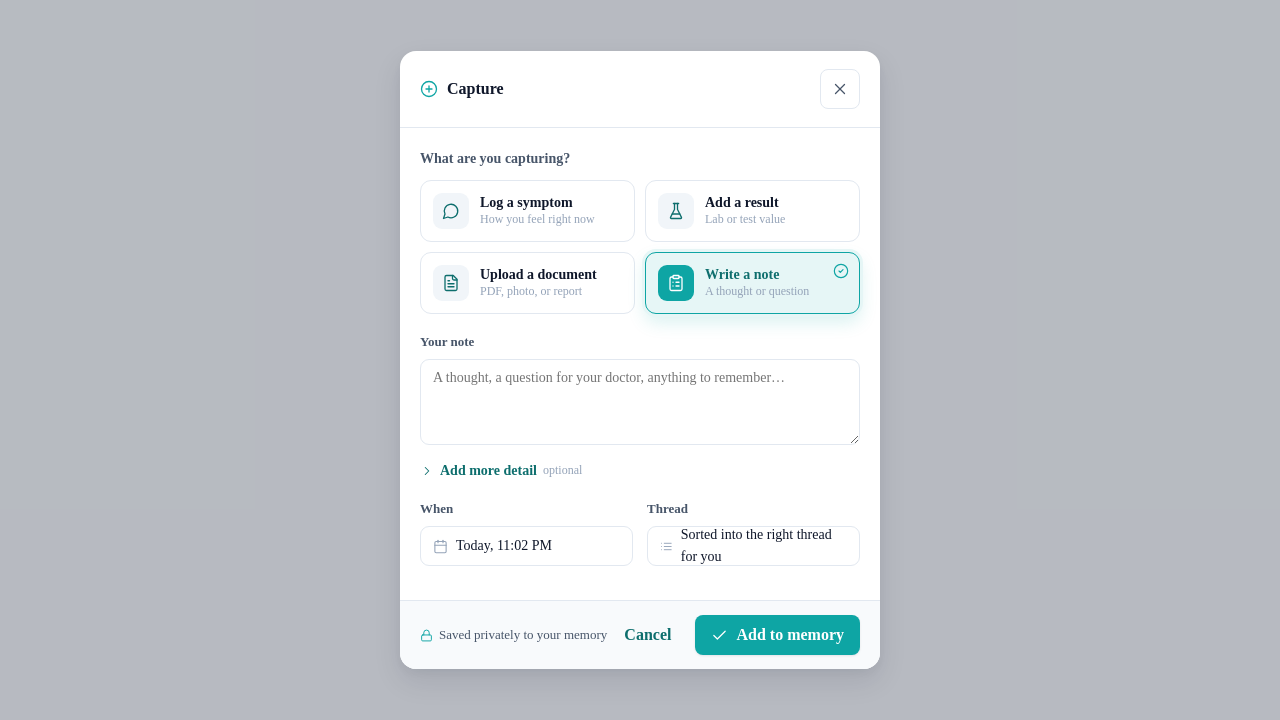
CaptureModal › offers extra detail on notes but not on lab results or documents
Expected: the button "Add more detail optional" is shown, x1=420 y1=459 x2=582 y2=483
Click the button "Add a result Lab or test value".
click(752, 211)  # box x1=645 y1=180 x2=860 y2=242
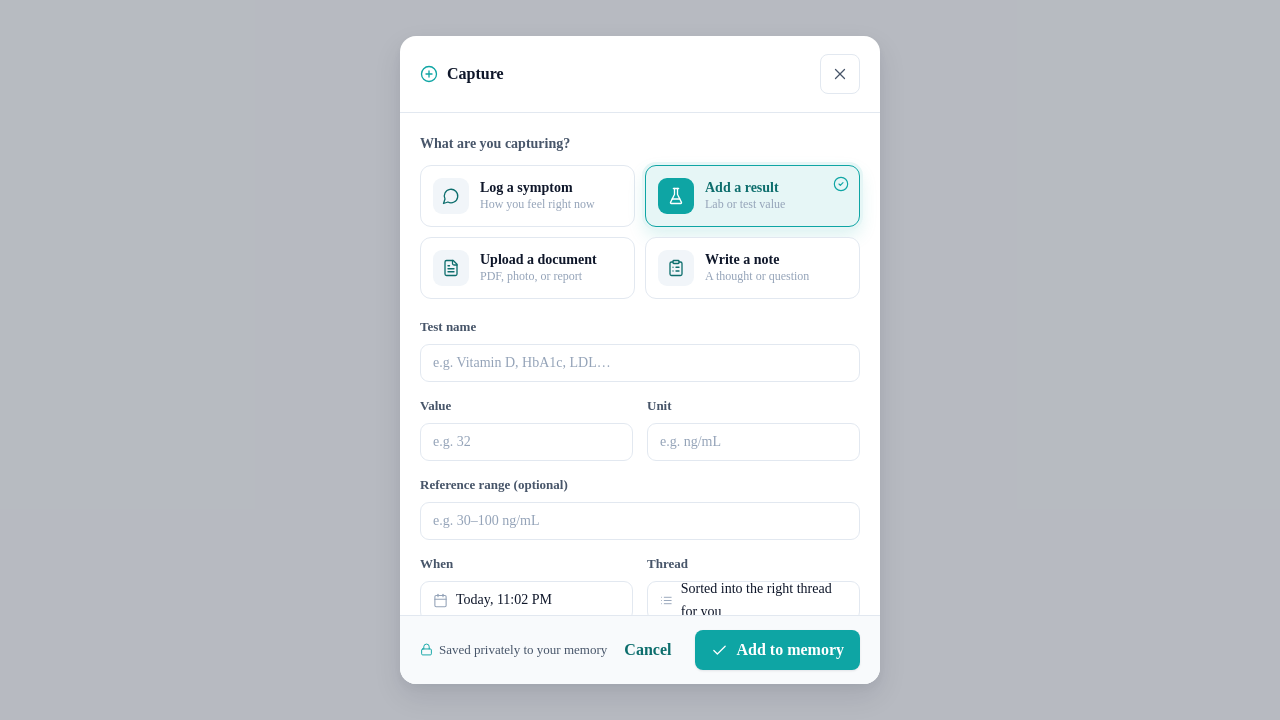
Expected: the button "Add more detail" is gone
